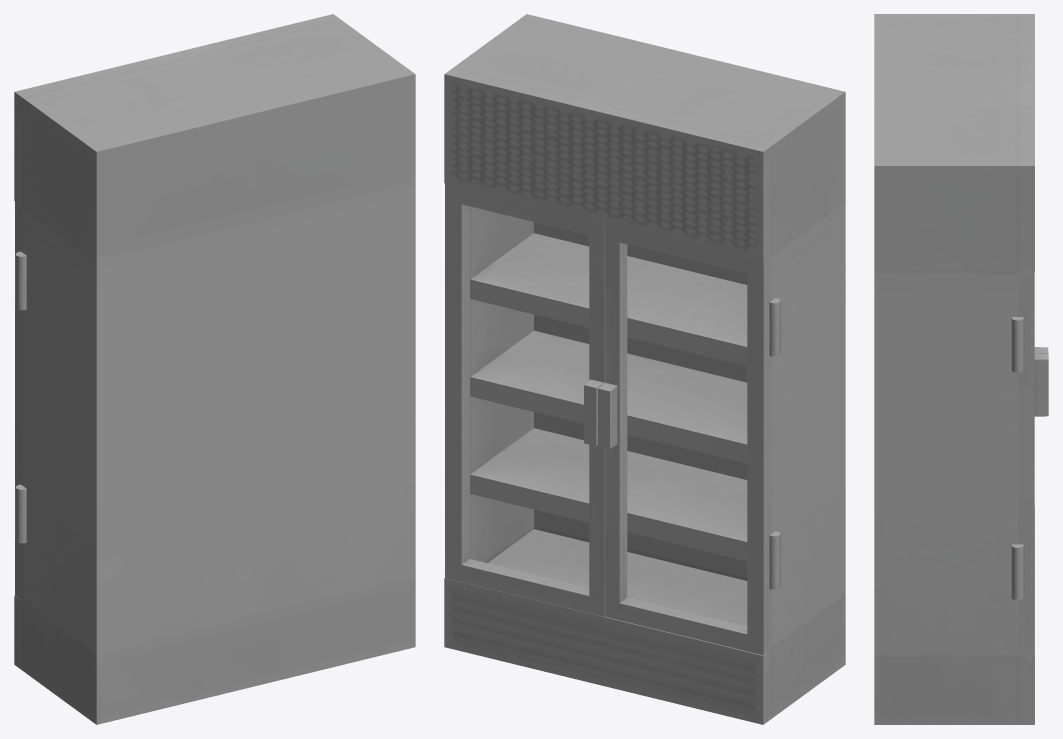
The model's file is Pfb_Shop_Refridge.fbx.
3 views of the same model, side by side, from view 1: azimuth 30°, elevation 25°; view 2: azimuth 150°, elevation 25°; view 3: azimuth 270°, elevation 25° (orthographic). The views are drawn at different scales.
Parts seen in each view (by area): view 1: MAT_Shop_Refridge_01_JLAB; view 2: MAT_Shop_Refridge_01_JLAB; view 3: MAT_Shop_Refridge_01_JLAB.
Part boxes in pixels (box(x1,y1,x2,y2)): MAT_Shop_Refridge_01_JLAB: box(14, 14, 415, 724); MAT_Shop_Refridge_01_JLAB: box(444, 14, 845, 724); MAT_Shop_Refridge_01_JLAB: box(874, 14, 1048, 724).
Bounding box in the file's own units: 1.57 × 2.57 × 0.7255.
Materials: 1 (1 with a texture image).
